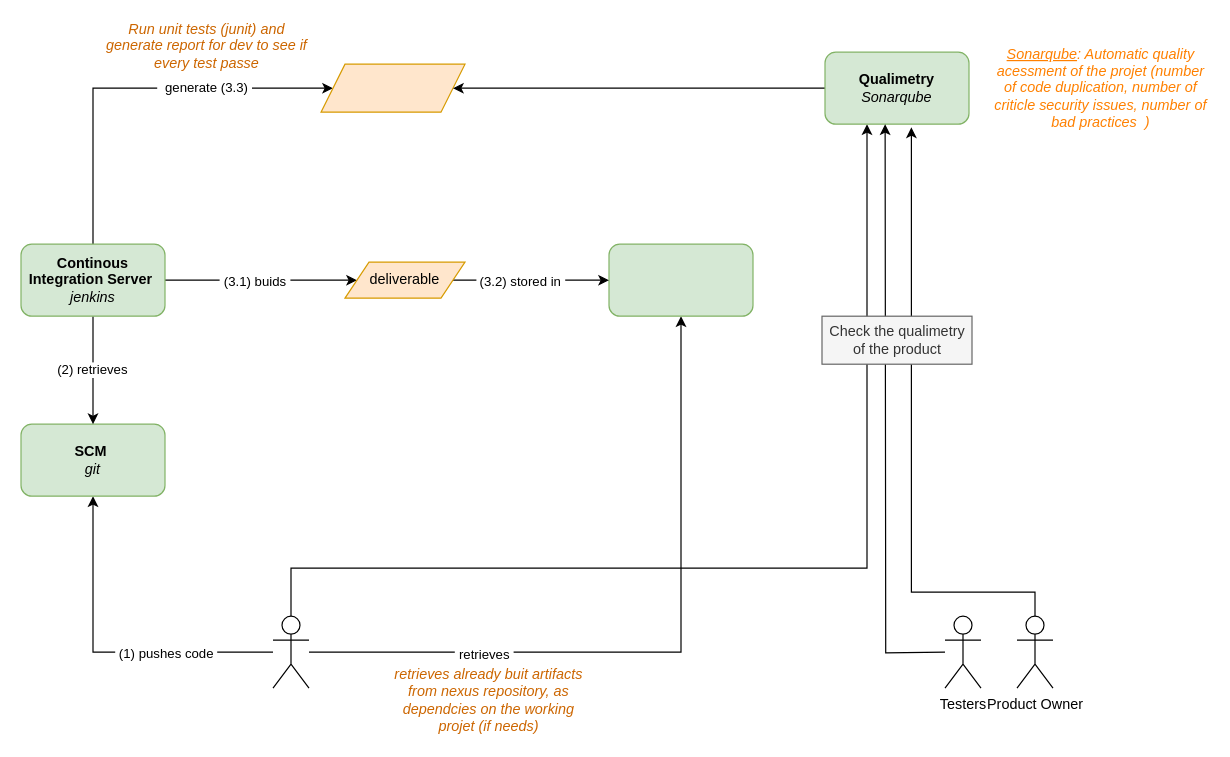
The diagram is 1230 pixels wide and 757 high, and some of its shapes have lost their labels. The centre of each missing label's shape, as x and y in pixels:
Artifact Server nexus: pixel 680 279
automatic test reports: pixel 392 87
Dev: pixel 290 651
